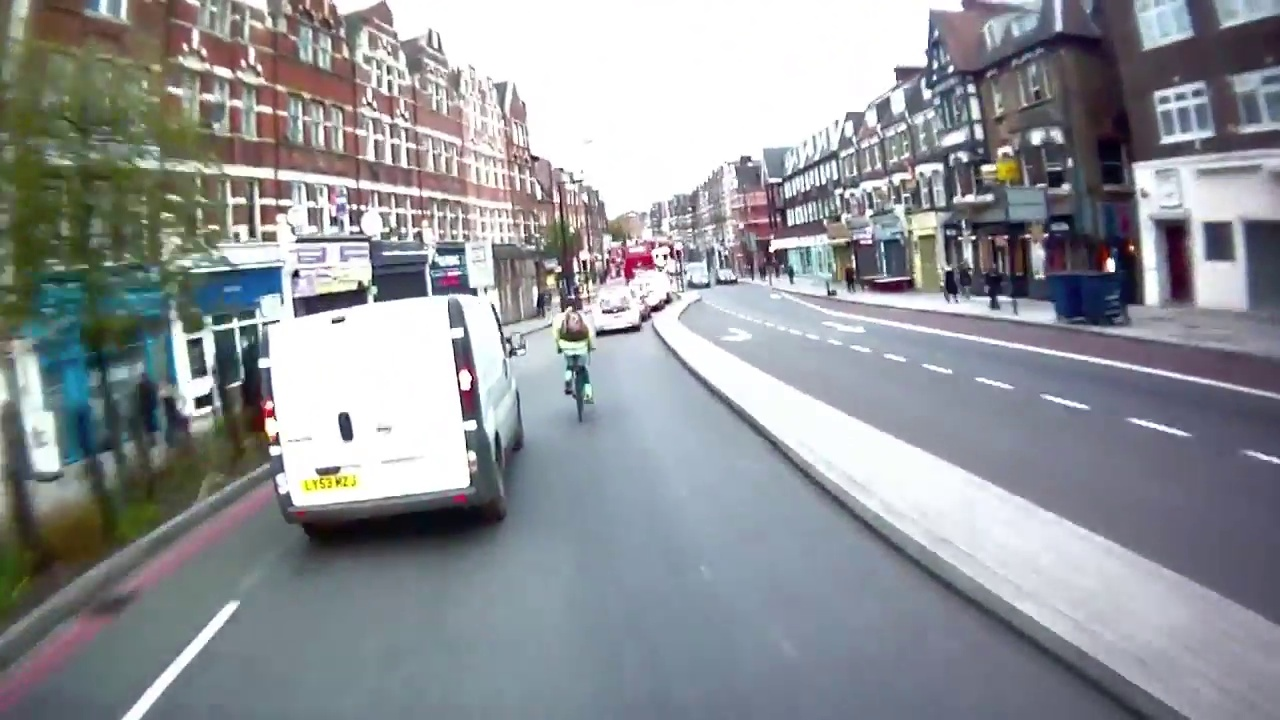cyclist_back: (549, 298, 601, 424)
